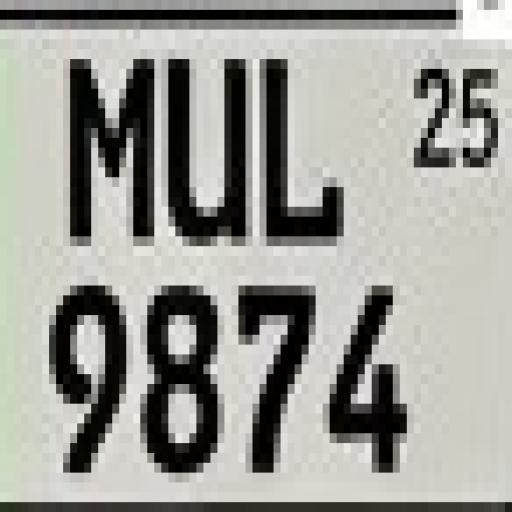4: (328, 273, 411, 479)
7: (230, 275, 320, 488)
8: (144, 277, 219, 491)
9: (45, 284, 134, 474)
L: (252, 50, 349, 264)
M: (58, 52, 160, 266)
U: (168, 48, 248, 252)
